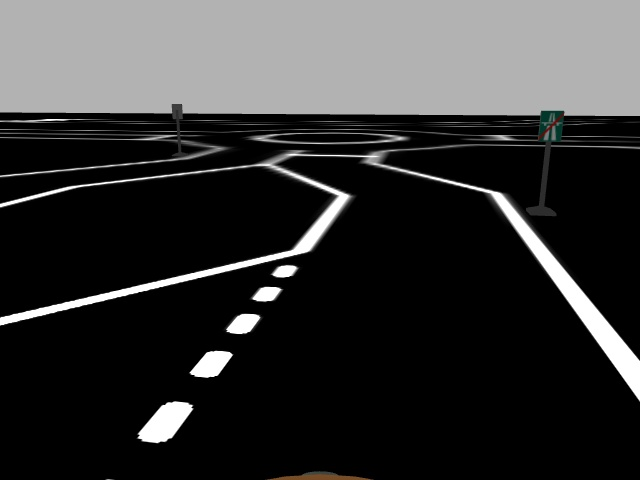leave_highway: (538, 109, 564, 143)
